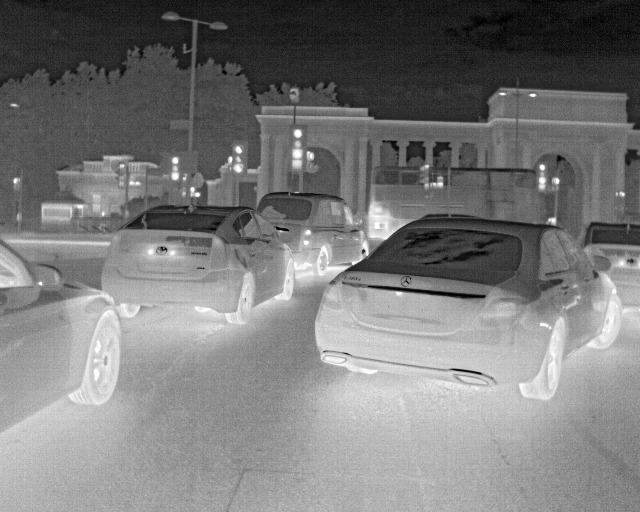car: (315, 213, 624, 401), (0, 237, 122, 434), (101, 205, 295, 324), (255, 191, 371, 278), (579, 220, 639, 306), (384, 201, 430, 241), (368, 200, 390, 239)
light: (290, 124, 305, 171), (305, 150, 318, 173), (234, 145, 243, 174), (170, 156, 180, 182), (418, 164, 429, 187), (538, 164, 546, 191), (550, 175, 560, 192), (119, 163, 125, 187), (227, 156, 235, 172), (13, 177, 20, 192), (114, 164, 120, 180), (436, 176, 443, 188), (194, 192, 201, 198), (619, 190, 625, 197), (190, 187, 195, 193)
sign: (178, 151, 197, 172), (170, 120, 190, 130), (193, 172, 204, 189), (147, 169, 164, 177)
